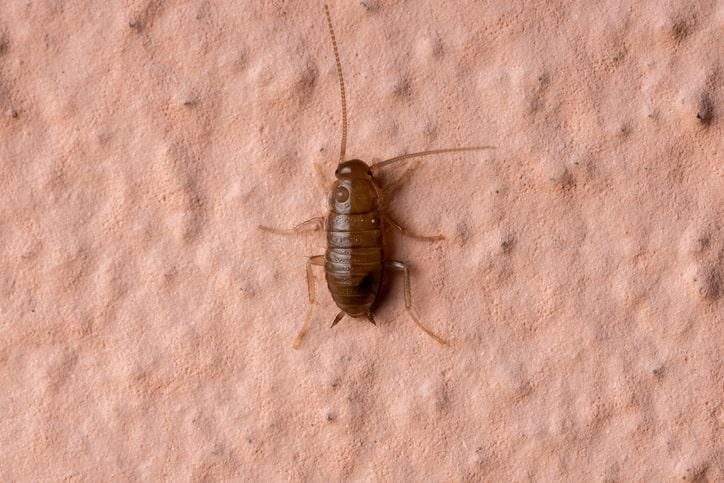cockroach: (318, 151, 392, 327)
